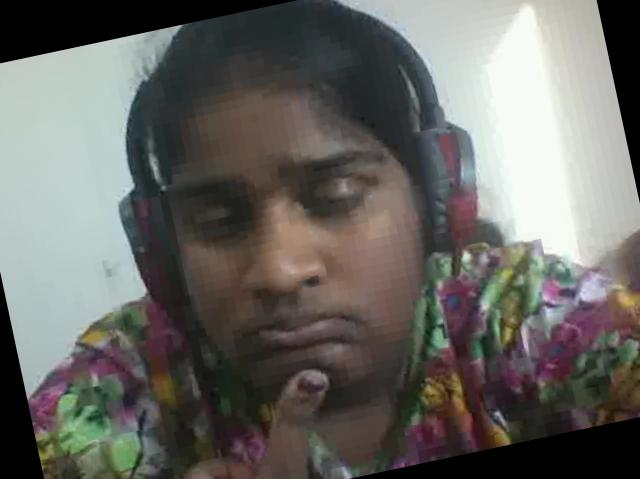bosan: (124, 63, 452, 440)
